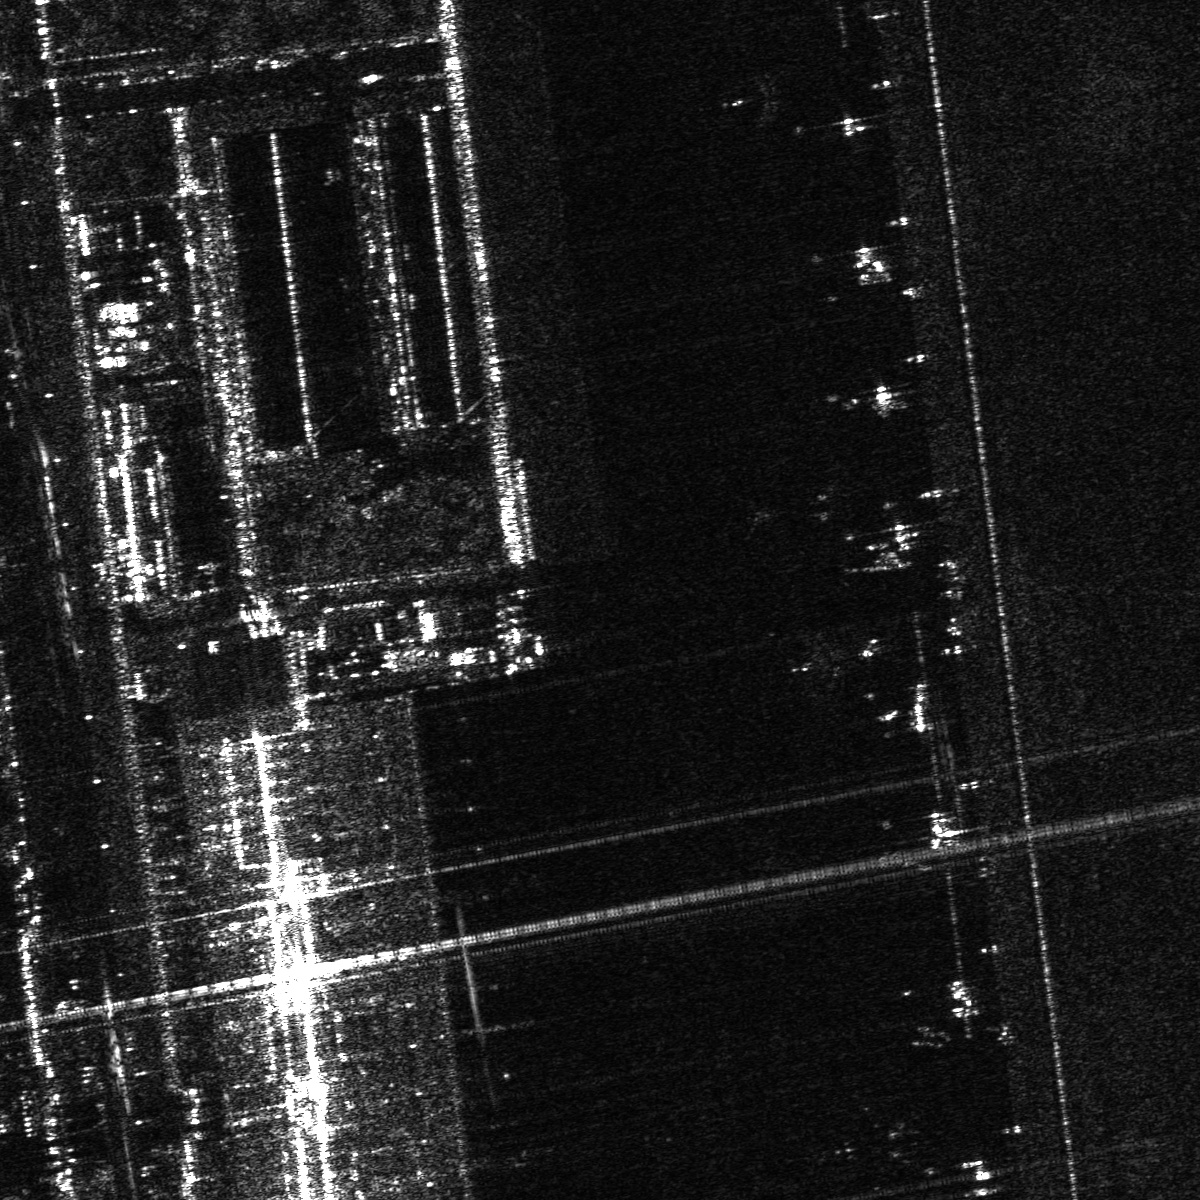A220: (784, 630, 854, 697)
Boeing787: (813, 1089, 926, 1199), (719, 63, 795, 131)
